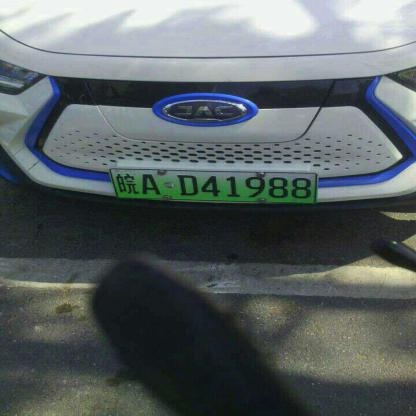lp: (108, 168, 318, 205)
